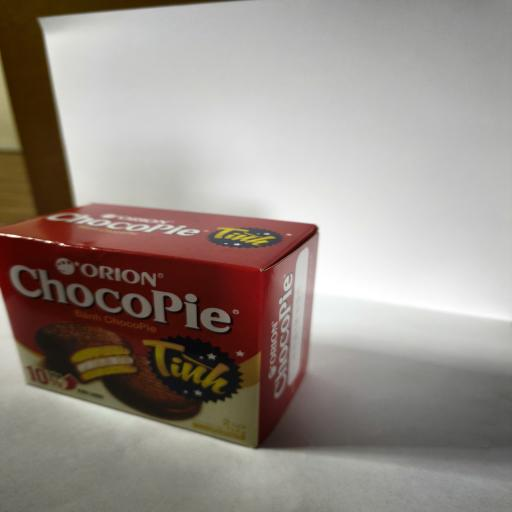chocopie: (0, 203, 320, 448)
